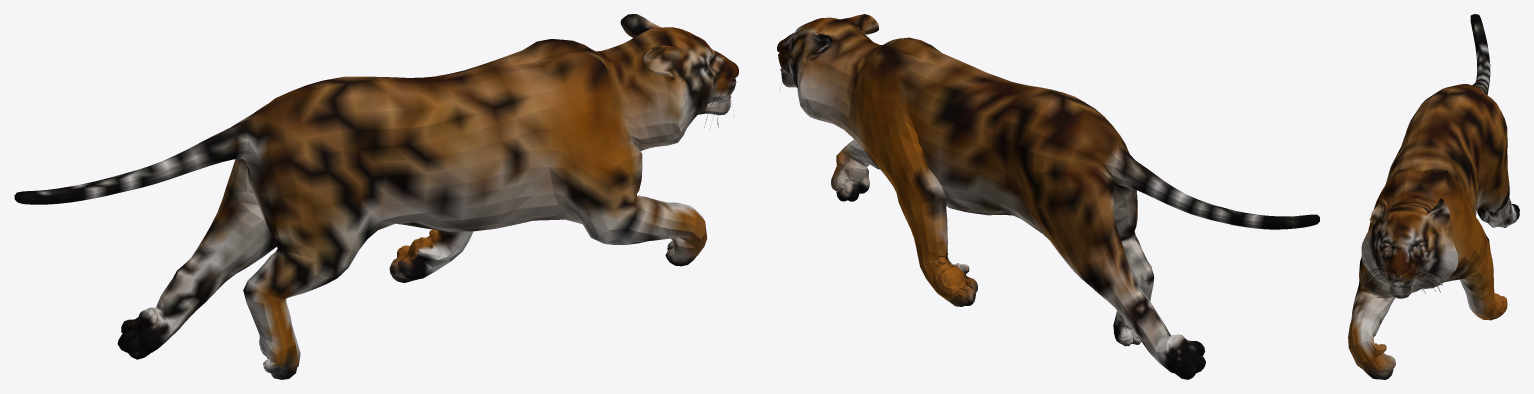
File: tiger.mesh.glb
The picture shows the model from 3 angles, left to right: view 1: azimuth 30°, elevation 25°; view 2: azimuth 150°, elevation 25°; view 3: azimuth 270°, elevation 25°; orthographic projection. The views are drawn at different scales.
Parts seen in each view (by area): view 1: root; view 2: root; view 3: root.
Boxes of the visible parts, x1,y1,x2,y2 form: root: [14, 14, 738, 379]; root: [777, 14, 1319, 379]; root: [1348, 14, 1519, 379].
Bounding box in the file's own units: 0.9311 × 0.3634 × 0.2627.
1 material, 1 textured.
